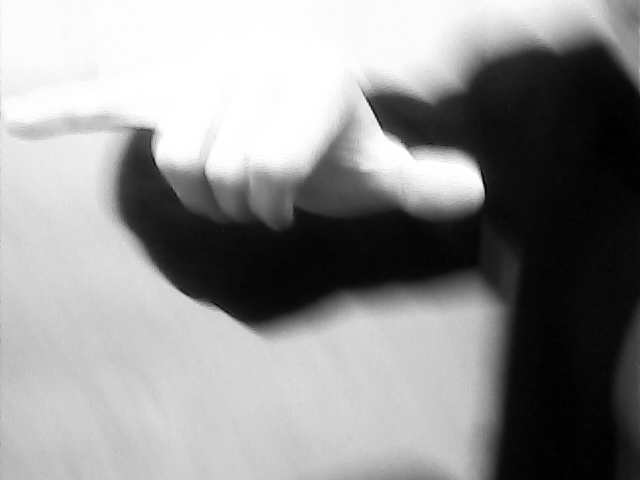aloha: (2, 43, 490, 231)
